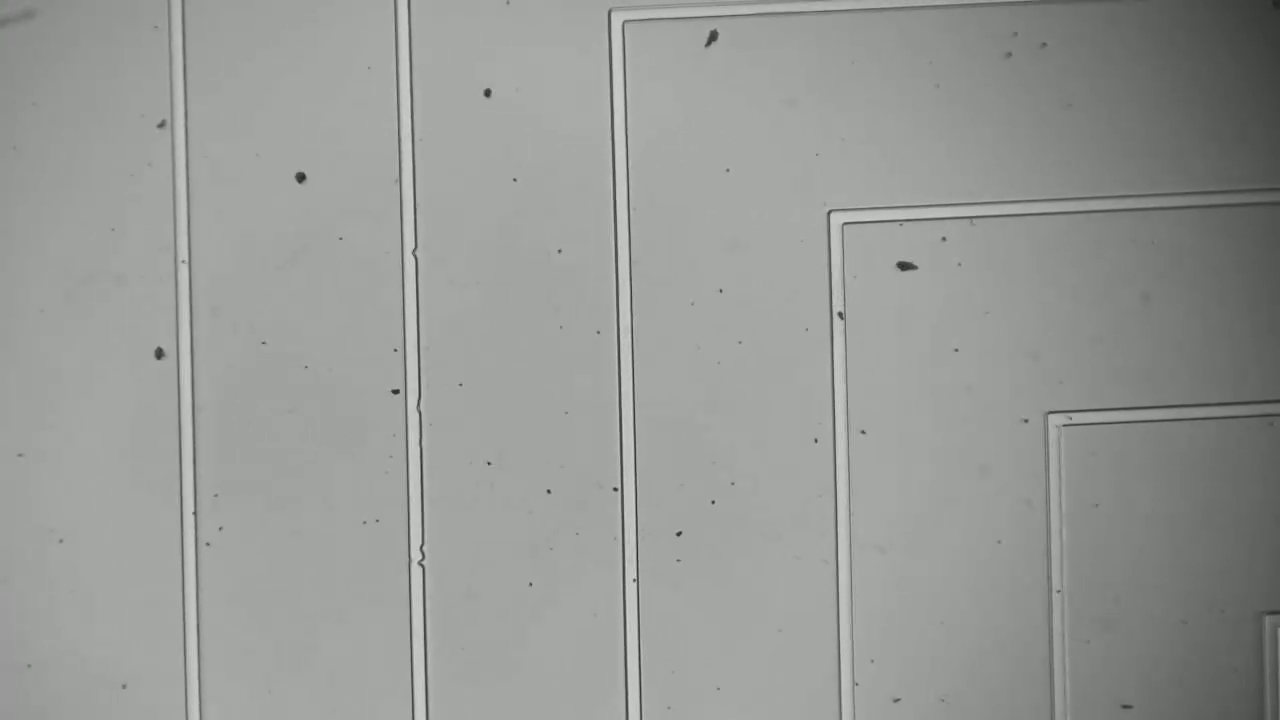edge_bite: (398, 389, 429, 421), (402, 543, 430, 574), (395, 235, 422, 261)
stains_enbedded: (824, 301, 853, 329)
